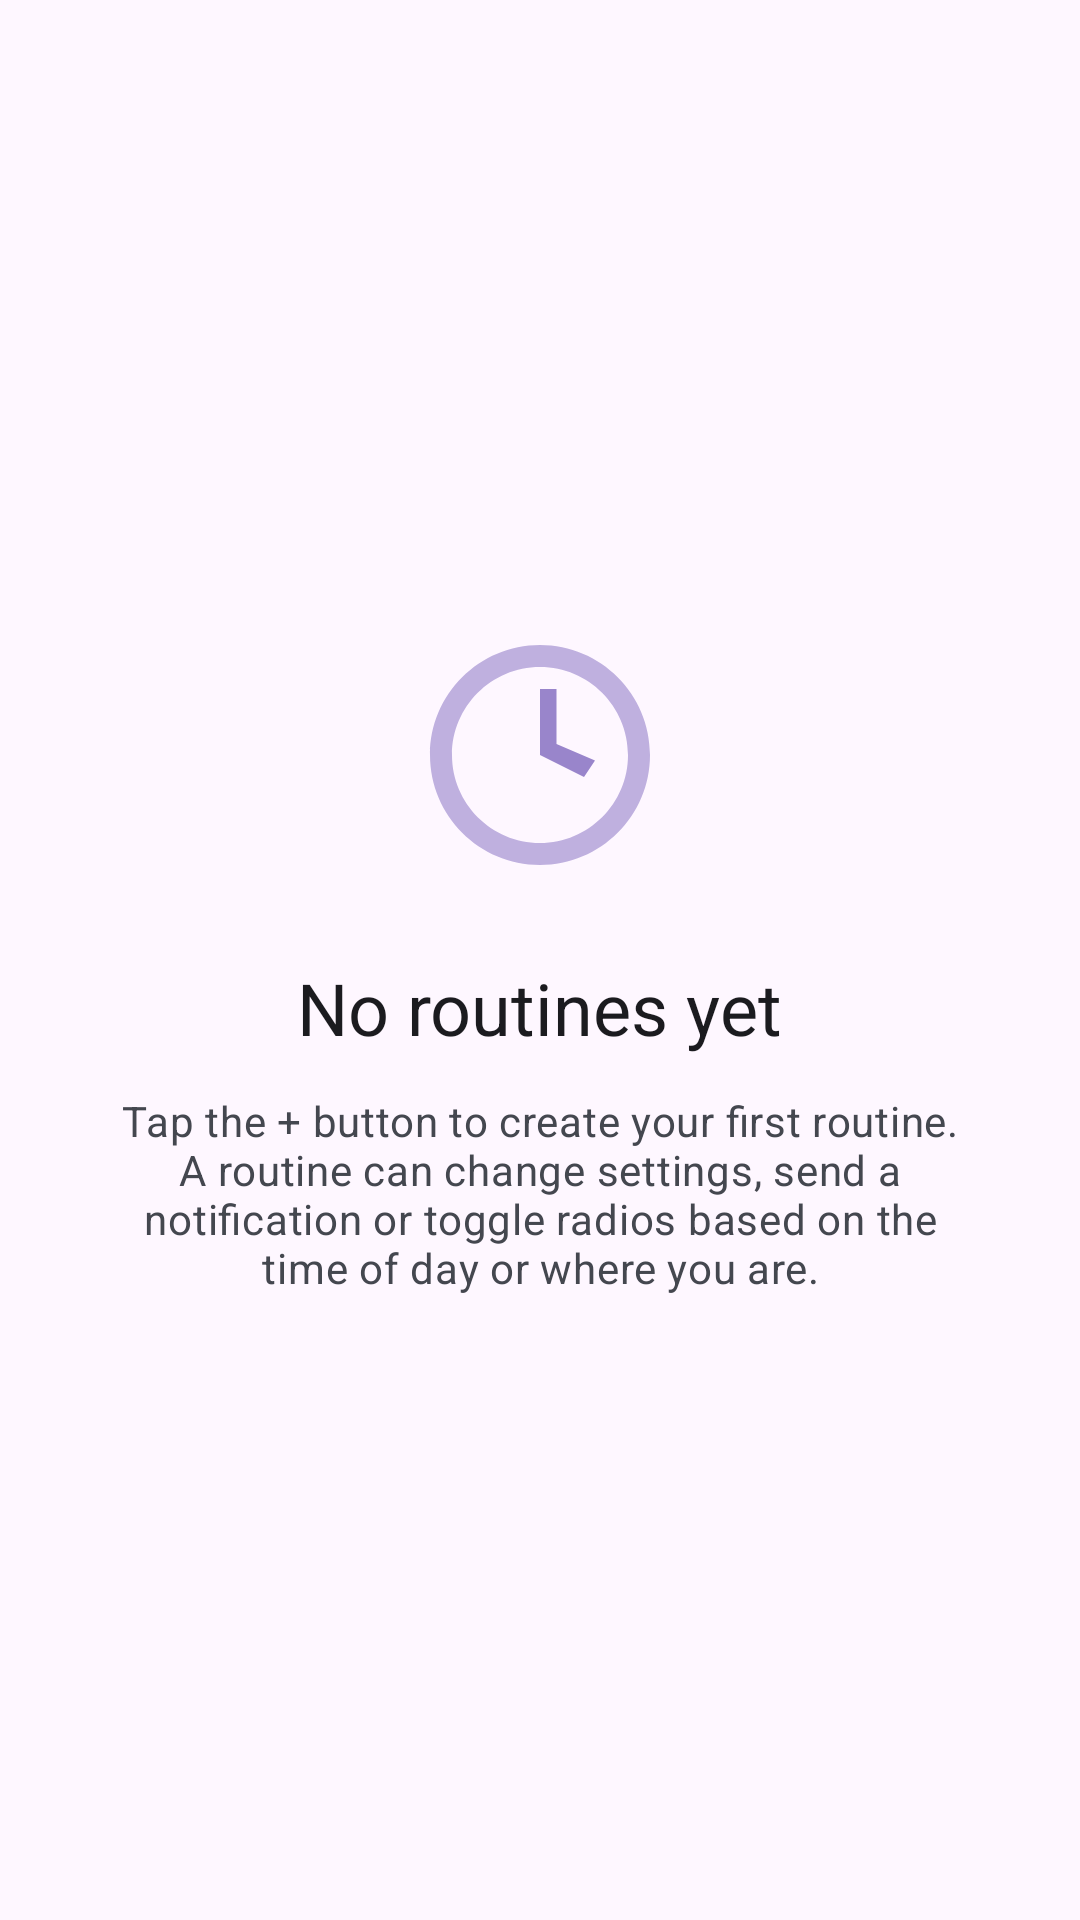

Screen size 1080*1920. Icon name, then its center in pixels as (x=x, y=y):
routine empty: (x=540, y=755)
